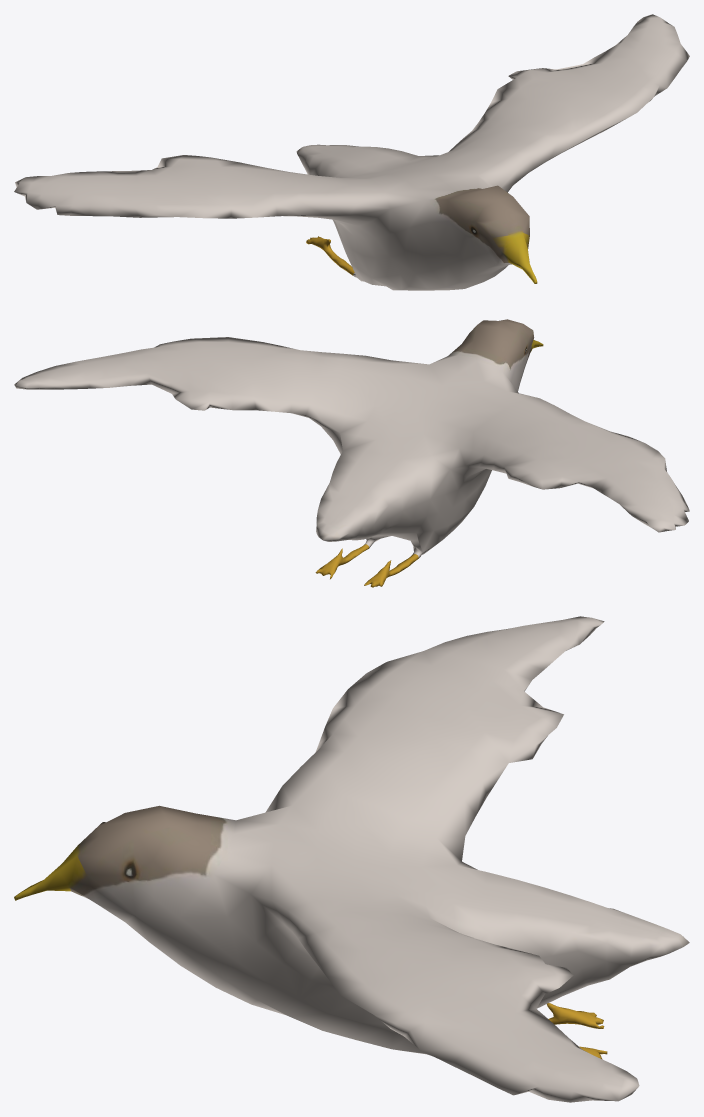
File: bird.glb
3 views of the same model, one above another, from view 1: azimuth 30°, elevation 25°; view 2: azimuth 150°, elevation 25°; view 3: azimuth 270°, elevation 25° (orthographic). The views are drawn at different scales.
Parts seen in each view (by area): view 1: BirdRetop:polySurface1.9; view 2: BirdRetop:polySurface1.9; view 3: BirdRetop:polySurface1.9.
Boxes of the visible parts, x1=… form: BirdRetop:polySurface1.9: x1=14, y1=14, x2=689, y2=290; BirdRetop:polySurface1.9: x1=14, y1=319, x2=689, y2=587; BirdRetop:polySurface1.9: x1=14, y1=616, x2=689, y2=1102.
Size of the model in its own units: 5.14 by 1.15 by 3.07.
Materials: 1 (1 with a texture image).
